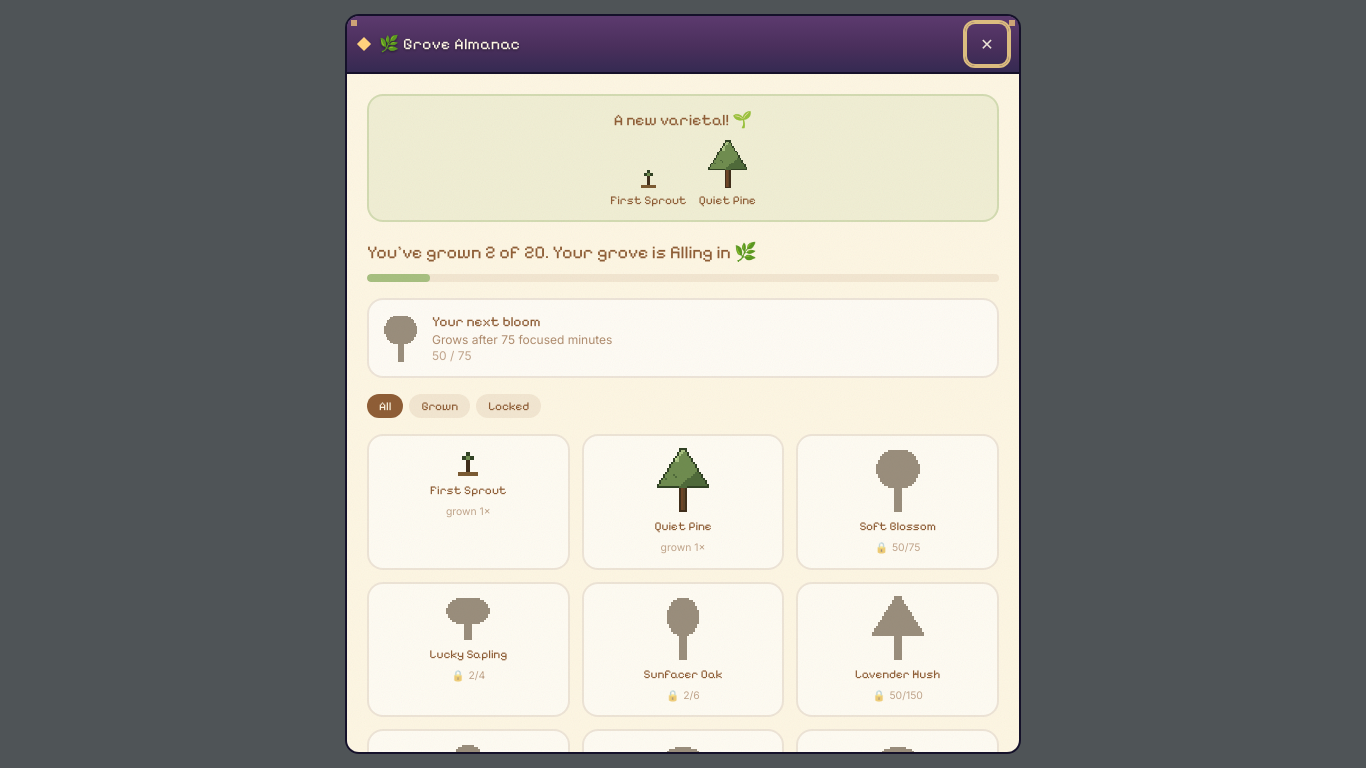
Test: GroveAlmanac › opens a detail view and queues "grow this one next" for an unlocked varietal
Click the button with aria-label "First Sprout, grown".
click(468, 502)  # box [367,434,570,570]
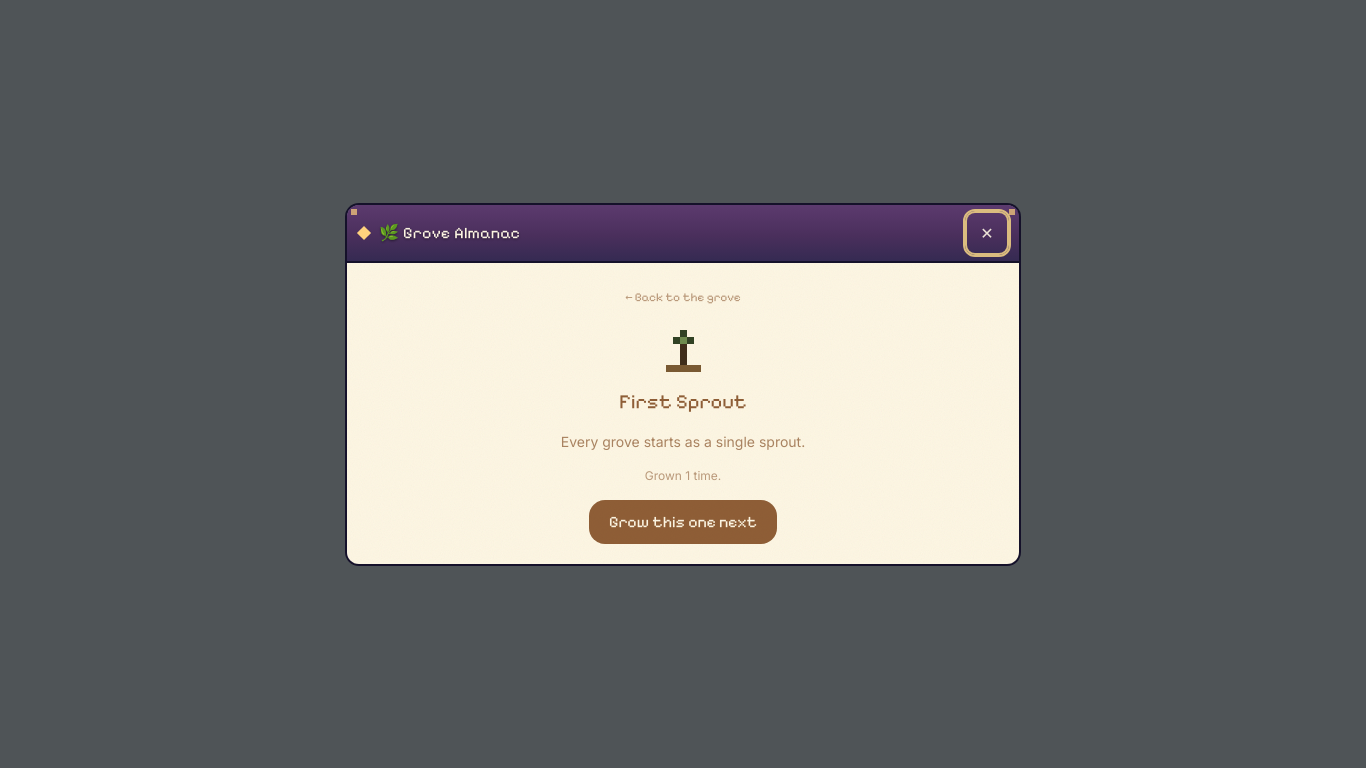
Click the button "Grow this one next".
click(683, 522)  # box [589,500,777,544]
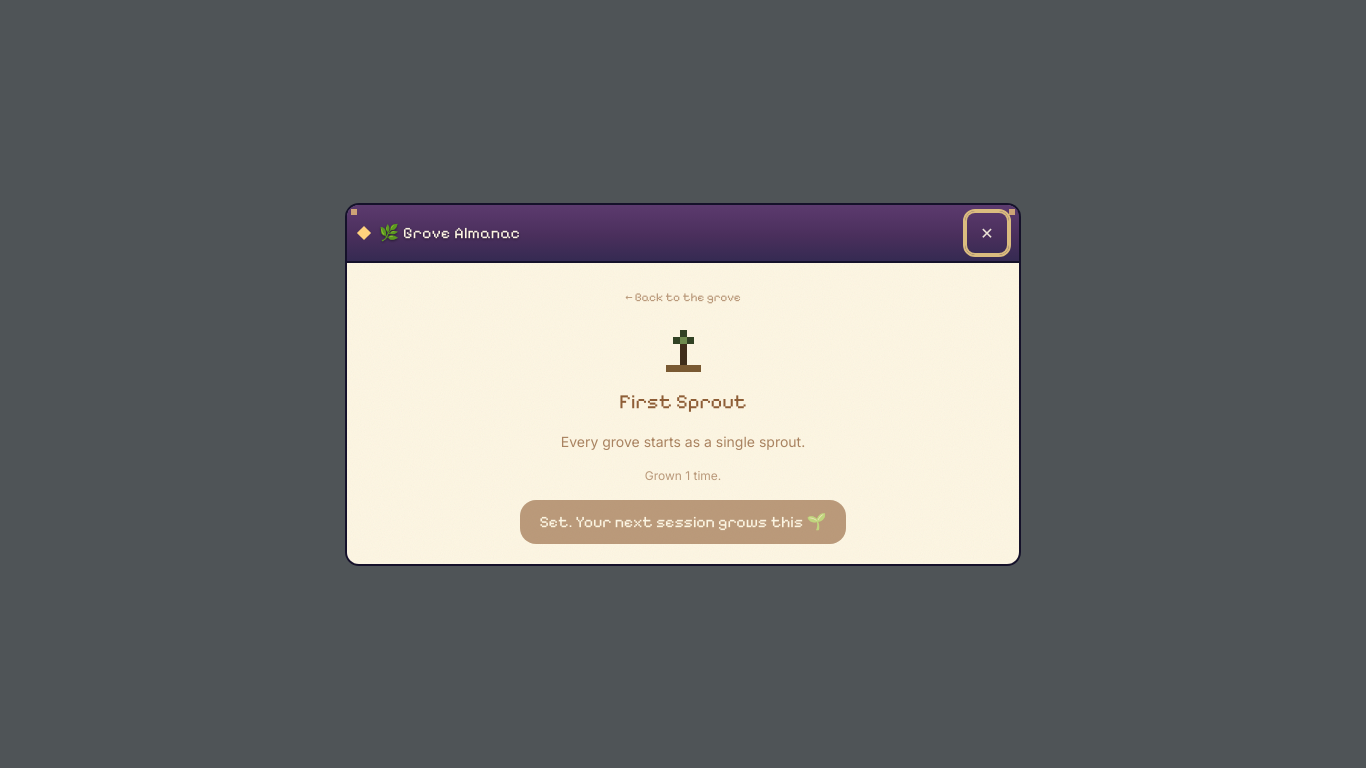
Result: the button "Set. Your next session grows this 🌱" is shown at [520,500,846,544]
